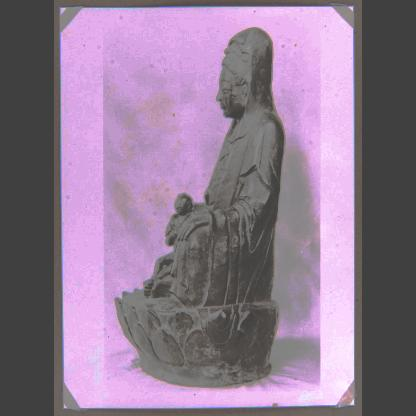buddha-sitting: (116, 29, 284, 386)
